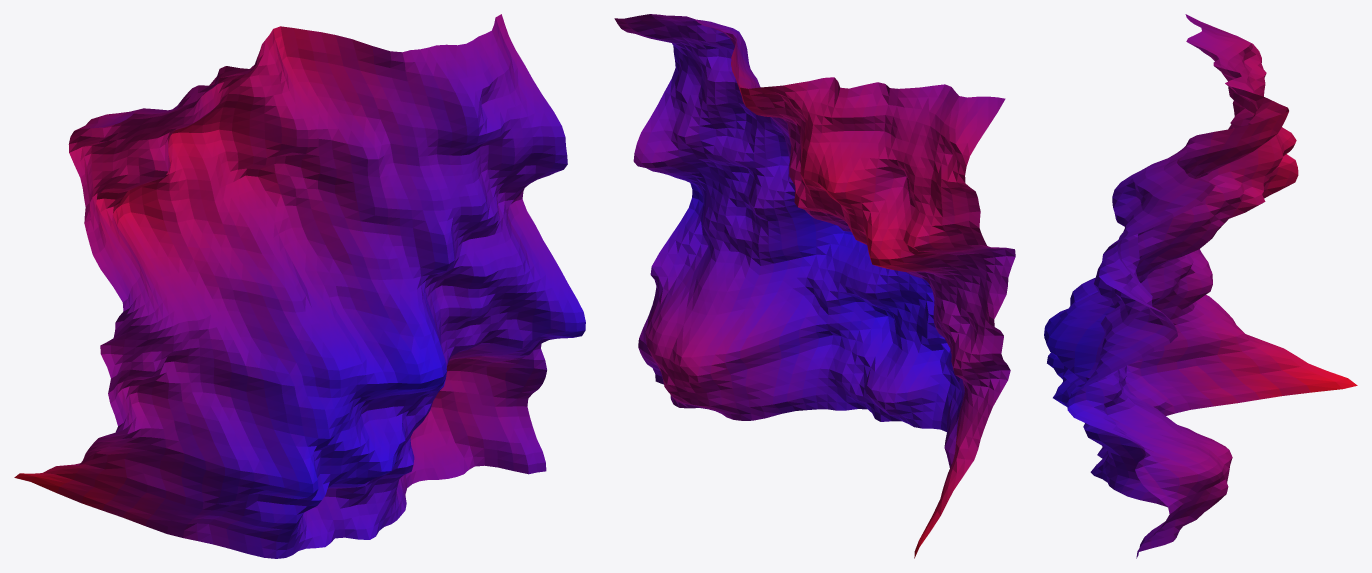
The model's file is colored.obj.
3 renders of one model, left to right at view 1: azimuth 30°, elevation 25°; view 2: azimuth 150°, elevation 25°; view 3: azimuth 270°, elevation 25°, orthographic. The views are drawn at different scales.
Size of the model in its own units: 50 by 50 by 38.26.
1 material, 1 textured.
